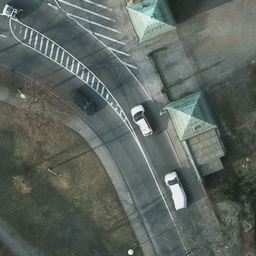car: (162, 169, 190, 212), (128, 103, 154, 139), (70, 90, 97, 118), (1, 5, 25, 22)
